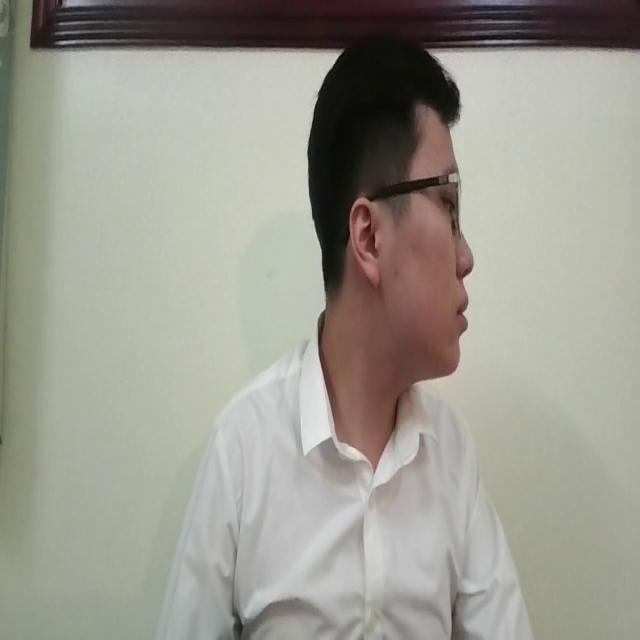student: (169, 46, 535, 640)
